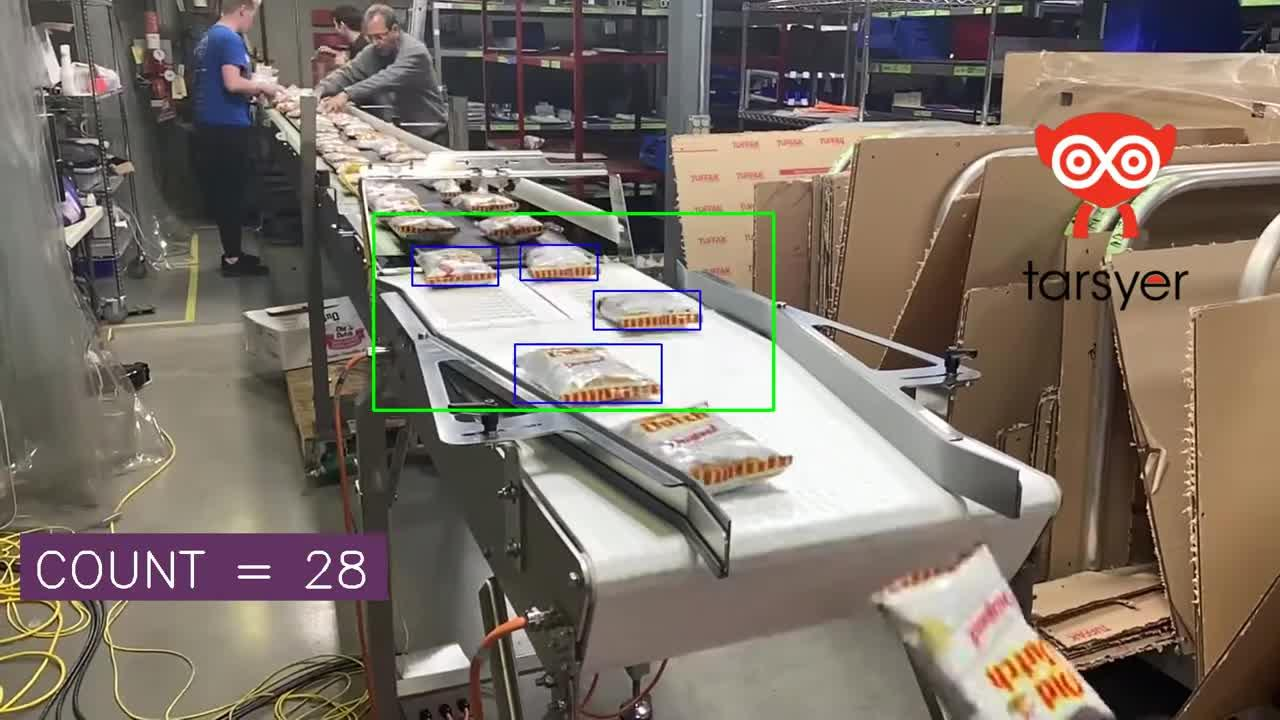Snack: (874, 546, 1114, 719), (622, 411, 792, 492), (518, 346, 660, 403), (596, 292, 700, 329), (415, 248, 496, 284), (522, 245, 598, 279), (383, 214, 458, 240), (476, 215, 544, 242), (451, 191, 518, 211), (364, 182, 417, 207), (369, 196, 425, 212), (322, 149, 369, 167), (373, 138, 410, 158), (336, 157, 371, 177), (431, 179, 461, 201), (342, 120, 375, 139), (351, 131, 384, 150), (383, 149, 426, 163), (326, 113, 356, 127), (285, 106, 301, 119)
